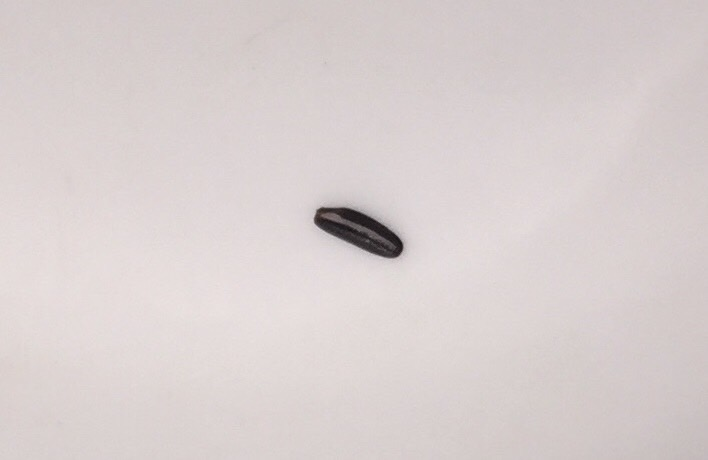Gao Nep Cam: (308, 200, 405, 269)
